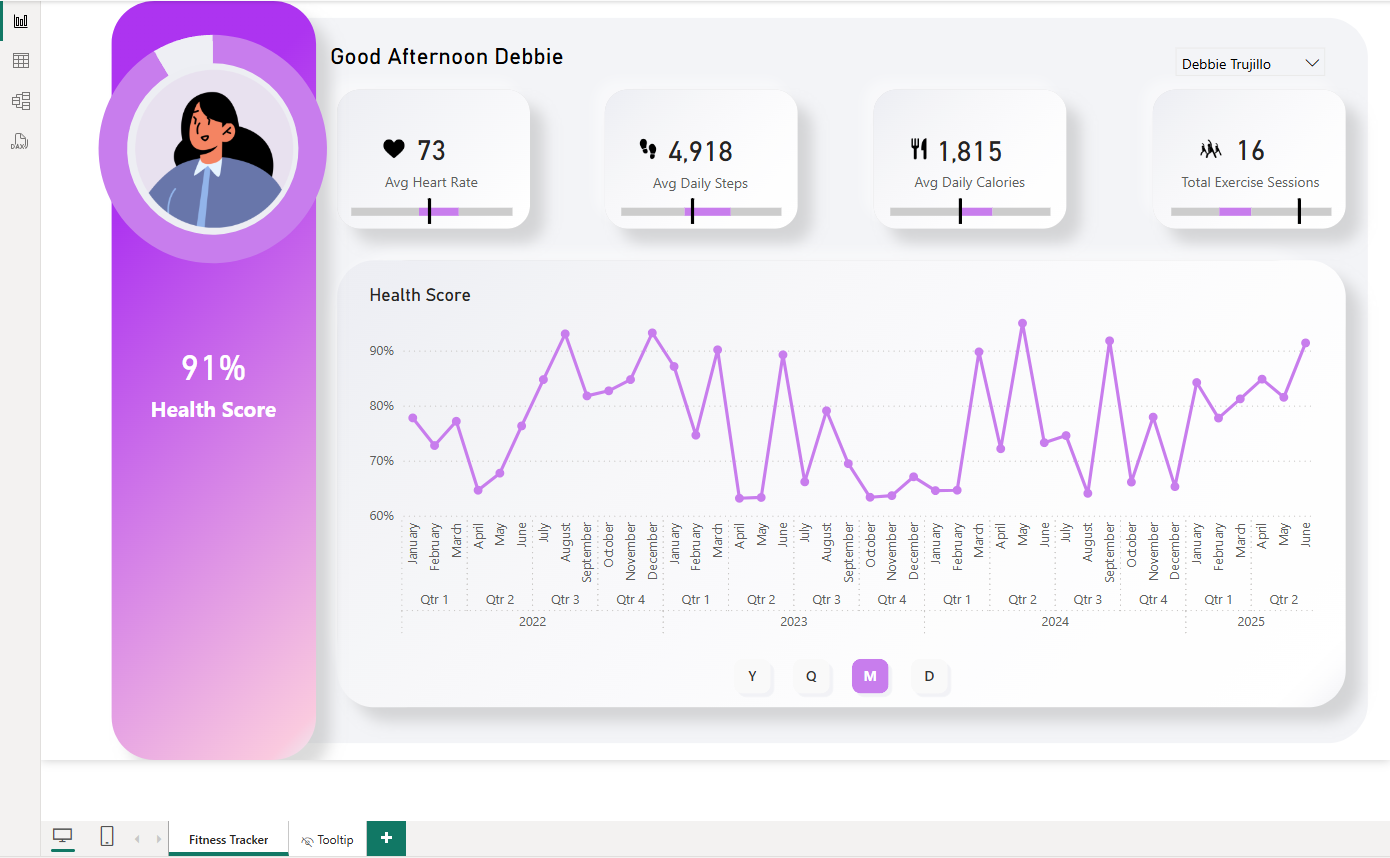

Layout of this report page (visuals, bound fields, positions):
{"tool":"powerbi","page":{"name":"Fitness Tracker","canvas":[1280,720],"ordinal":0},"visuals":[{"type":"card","title":"Heart Rate Card","fields":{"Values":["Metrics.Avg Heart Rate over the Last 30 Days"]},"box":[289.8,99.2,162.4,99.2],"z":0},{"type":"card","title":"Steps Card","fields":{"Values":["Metrics.Avg Daily Steps over the Last 30 Days"]},"box":[545,100.4,162.4,99.2],"z":1000},{"type":"card","title":"Calories Card","fields":{"Values":["Metrics.Avg Daily Calories over the Last 30 Days"]},"box":[800.7,99.2,161.3,100.4],"z":2000},{"type":"card","title":"Exercise Card","fields":{"Values":["Metrics.Total Exercise Sessions over the Last 30 Days"]},"box":[1066.9,99.2,162.4,99.2],"z":3000},{"type":"slicer","title":"User Slicer","fields":{"Values":["dimUser.Name"]},"box":[1066.9,33.8,162.4,50.7],"z":4000},{"type":"lineChart","title":"Health Score ","fields":{"Category":["dimDate.Date.Variation.Date Hierarchy.Year","dimDate.Date.Variation.Date Hierarchy.Quarter","dimDate.Date.Variation.Date Hierarchy.Month","dimDate.Date.Variation.Date Hierarchy.Day"],"Y":["Metrics.Health Score"]},"box":[306.5,268.2,906.7,342.8],"z":5000},{"type":"multiRowCard","title":"Greeting Card","fields":{"Values":["Metrics.Greeting Text"]},"box":[269.7,35,271.7,49.6],"z":6000},{"type":"card","title":"Health Score Card","fields":{"Values":["Metrics.Health Score"]},"box":[82.3,300,162.4,118.4],"z":8000},{"type":"tableEx","title":"User Avatar","fields":{"Values":["dimUser.Photo Img"]},"box":[68,35,198.8,219.1],"z":8250},{"type":"donutChart","title":"Health Score Donut Chart","fields":{"Y":["Metrics.Health Score","Metrics.HealthScore - Fill to 100"]},"box":[0,0,326,280.9],"z":8500},{"type":"bookmarkNavigator","title":"Y-Q-M-D Buttons","box":[652.3,618.9,215.1,44.2],"z":8501},{"type":"barChart","title":"Heart Rate Bar Chart","fields":{"Y":["Metrics.Avg Heart Rate - Target Min","Metrics.Avg Heart Range","Metrics.Avg Heart Rate - Axis Fill"]},"box":[289.4,175.6,162.8,41.5],"z":8502},{"type":"barChart","title":"Calories Bar Chart","fields":{"Y":["Metrics.Avg Daily Calories - Target Min","Metrics.Avg Daily Calories Target Range","Metrics.Avg Calories - Axis Fill"]},"box":[801.2,175.6,162,41.5],"z":8503},{"type":"barChart","title":"Steps Bar Chart","fields":{"Y":["Metrics.Avg Daily Steps - Target Min","Metrics.Avg Daily Steps Range","Metrics.Avg Daily Steps - Axis Fill"]},"box":[545.8,175.6,161.7,41.5],"z":8504},{"type":"barChart","title":"Exercise Bar Chart","fields":{"Y":["Metrics.Total Exercise Sessions - Target Min","Metrics.Total Exercise Sessions Range","Metrics.Total Exercise Sessions - Target Max"]},"box":[1067.2,175.6,162,41.5],"z":8505},{"type":"image","title":"Heart Image","box":[317,125.6,35.1,29.9],"z":8506},{"type":"image","title":"Calories Image","box":[814.8,125.6,35.1,29.9],"z":8507},{"type":"image","title":"Steps Image","box":[557.6,125.6,35.1,29.9],"z":8508},{"type":"image","title":"Exercise Image","box":[1092.3,125.6,35.1,30],"z":8509}]}

Visuals, with their boxes on the page's 1280x720 design canvas (x1, y1, x2, y2). These are canvas units, not pixel positions in the 1390x858 screenshot, which may show the page scaled, cropped or inside an application window:
"Heart Rate Card" card: [290, 99, 452, 198]
"Steps Card" card: [545, 100, 707, 200]
"Calories Card" card: [801, 99, 962, 200]
"Exercise Card" card: [1067, 99, 1229, 198]
"User Slicer" slicer: [1067, 34, 1229, 84]
"Health Score " lineChart: [306, 268, 1213, 611]
"Greeting Card" multiRowCard: [270, 35, 541, 85]
"Health Score Card" card: [82, 300, 245, 418]
"User Avatar" tableEx: [68, 35, 267, 254]
"Health Score Donut Chart" donutChart: [0, 0, 326, 281]
"Y-Q-M-D Buttons" bookmarkNavigator: [652, 619, 867, 663]
"Heart Rate Bar Chart" barChart: [289, 176, 452, 217]
"Calories Bar Chart" barChart: [801, 176, 963, 217]
"Steps Bar Chart" barChart: [546, 176, 708, 217]
"Exercise Bar Chart" barChart: [1067, 176, 1229, 217]
"Heart Image" image: [317, 126, 352, 156]
"Calories Image" image: [815, 126, 850, 156]
"Steps Image" image: [558, 126, 593, 156]
"Exercise Image" image: [1092, 126, 1127, 156]
